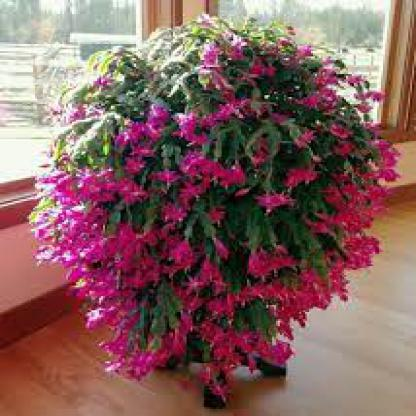Aglonema: (13, 7, 268, 76)
